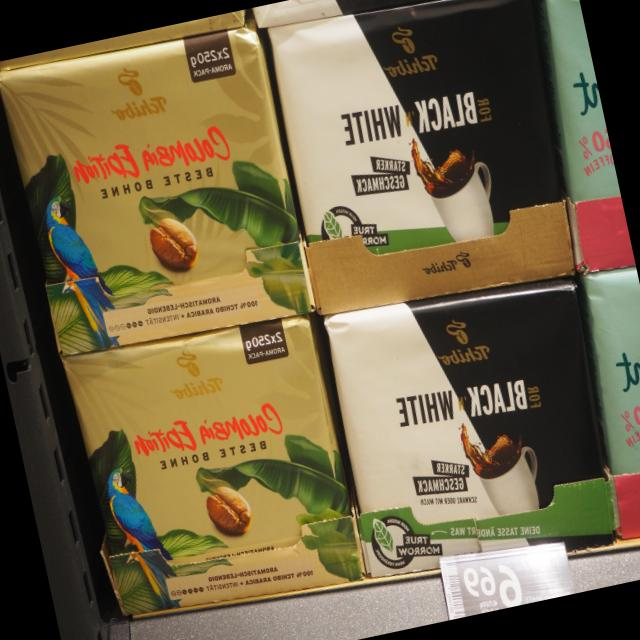BW Gemahlen: (262, 0, 577, 318), (318, 278, 618, 583)
Colombia BB Gemahlen: (0, 15, 318, 368), (57, 314, 369, 620)
